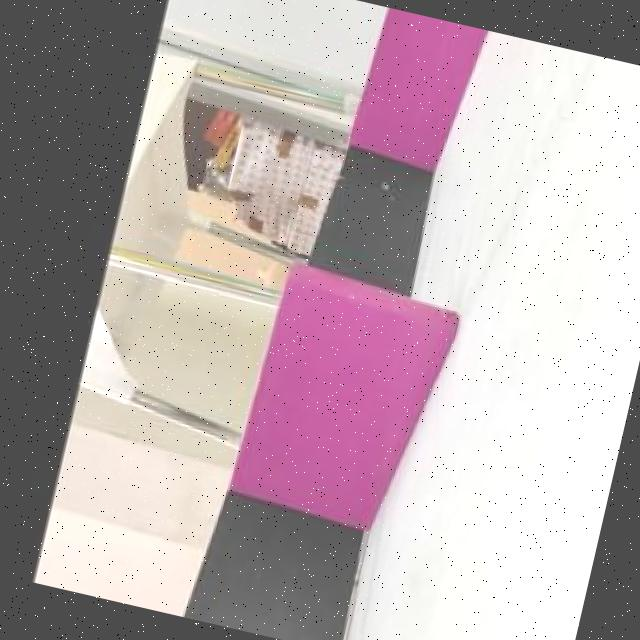xparking: (240, 270, 441, 508), (356, 7, 474, 158)
